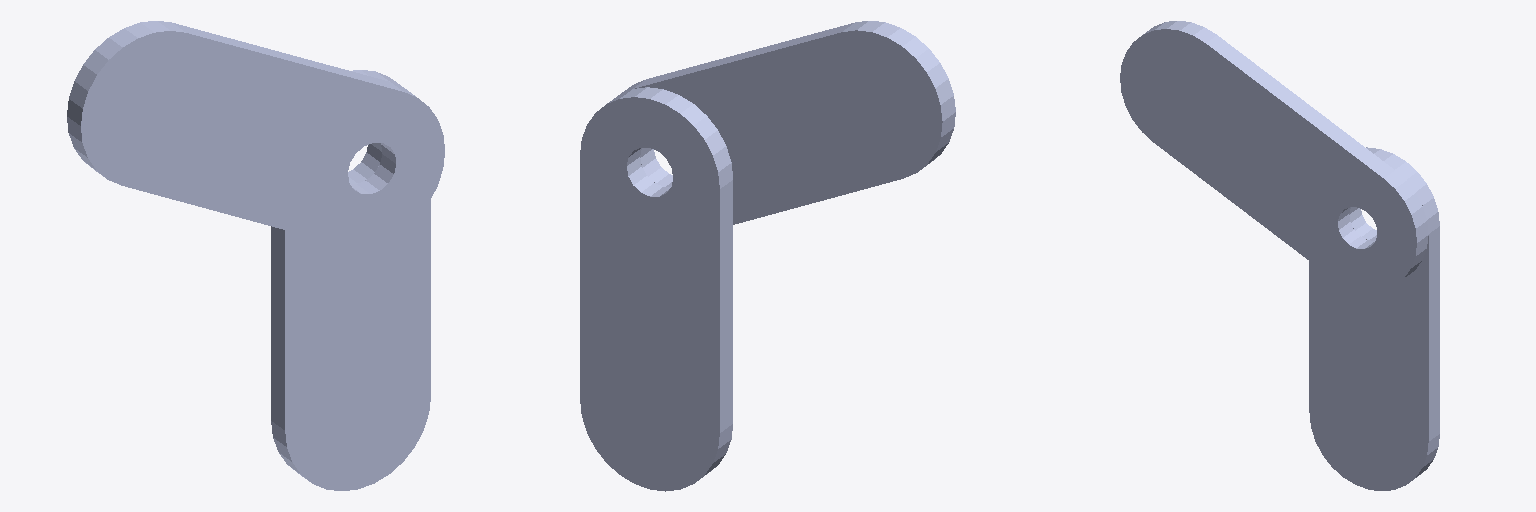
robot.urdf — test.SLDASM:
<robot
  name="test.SLDASM">
  <link
    name="base_link">
    <inertial>
      <origin
        xyz="-0.02541 0.007421 0.16"
        rpy="0 0 0" />
      <mass
        value="0.085133" />
      <inertia
        ixx="0.00015553"
        ixy="-5.0265E-21"
        ixz="-1.7229E-22"
        iyy="2.4993E-05"
        iyz="-3.6499E-22"
        izz="0.00017911" />
    </inertial>
    <visual>
      <origin
        xyz="0 0 0"
        rpy="0 0 0" />
      <geometry>
        <mesh
          filename="package://test.SLDASM/meshes/base_link.STL" />
      </geometry>
      <material
        name="">
        <color
          rgba="0.79216 0.81961 0.93333 1" />
      </material>
    </visual>
    <collision>
      <origin
        xyz="0 0 0"
        rpy="0 0 0" />
      <geometry>
        <mesh
          filename="package://test.SLDASM/meshes/base_link.STL" />
      </geometry>
    </collision>
  </link>
  <link
    name="l1">
    <inertial>
      <origin
        xyz="2.35922392732846E-16 -0.0518451142346924 0.005"
        rpy="0 0 0" />
      <mass
        value="0.0851327412287184" />
      <inertia
        ixx="0.000155534648022978"
        ixy="5.13301966036106E-19"
        ixz="3.65552941169301E-22"
        iyy="2.49926248174189E-05"
        iyz="-8.73241326349883E-22"
        izz="0.000179108393819918" />
    </inertial>
    <visual>
      <origin
        xyz="0 0 0"
        rpy="0 0 0" />
      <geometry>
        <mesh
          filename="package://test.SLDASM/meshes/l1.STL" />
      </geometry>
      <material
        name="">
        <color
          rgba="0.792156862745098 0.819607843137255 0.933333333333333 1" />
      </material>
    </visual>
    <collision>
      <origin
        xyz="0 0 0"
        rpy="0 0 0" />
      <geometry>
        <mesh
          filename="package://test.SLDASM/meshes/l1.STL" />
      </geometry>
    </collision>
  </link>
  <joint
    name="j1"
    type="continuous">
    <origin
      xyz="-0.02541 -0.165 0.059266"
      rpy="-1.5708 1.1128 -3.1416" />
    <parent
      link="base_link" />
    <child
      link="l1" />
    <axis
      xyz="0 0 1" />
  </joint>
</robot>

--- Render facts (derived) ---
3 views of the same robot in one strip: view 1: azimuth 30°, elevation 25°; view 2: azimuth 150°, elevation 25°; view 3: azimuth 330°, elevation 25° (orthographic).
Robot: test.SLDASM — 2 links, 1 joints (1 continuous); root link base_link; default pose: every joint at zero.
Visible links, largest first — view 1: l1, base_link; view 2: base_link, l1; view 3: l1, base_link.
Link boxes in pixels (<box>): l1: <box>67,21,444,246</box>; base_link: <box>271,70,430,490</box>; base_link: <box>580,87,732,491</box>; l1: <box>621,21,955,224</box>; l1: <box>1120,21,1428,291</box>; base_link: <box>1309,147,1439,490</box>.
Size in the robot's own frame: 0.1497 by 0.02 by 0.2042 metres.
Meshes: 2 distinct files referenced, 2 mesh visuals loaded (2 binary STL).